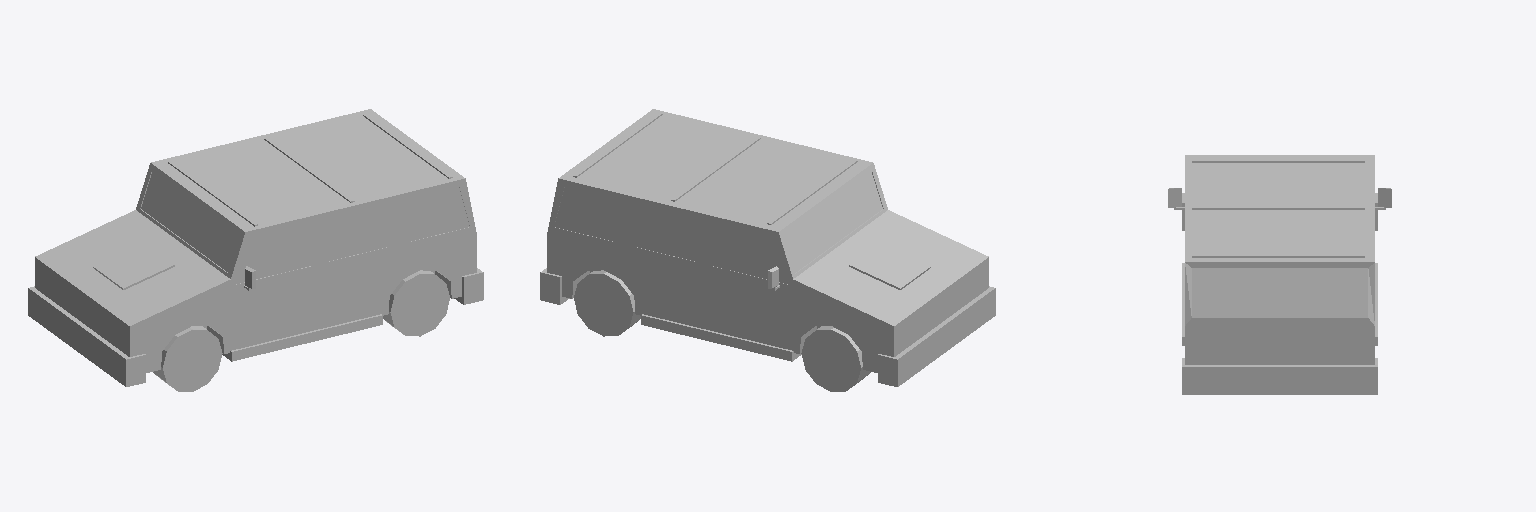
File: SUV.obj
3 views of the same model, side by side, from view 1: azimuth 30°, elevation 25°; view 2: azimuth 150°, elevation 25°; view 3: azimuth 270°, elevation 25° (orthographic).
Parts seen in each view (by area): view 1: Car_Body, Wheel_FL, Wheel_RL; view 2: Car_Body, Wheel_FR, Wheel_RR; view 3: Car_Body.
Boxes of the visible parts, box(x1,y1,x2,y2) form: Car_Body: box(28, 109, 483, 386); Wheel_FL: box(153, 326, 222, 391); Wheel_RL: box(383, 270, 449, 336); Car_Body: box(540, 109, 995, 386); Wheel_FR: box(801, 326, 870, 391); Wheel_RR: box(574, 270, 640, 336); Car_Body: box(1168, 155, 1391, 394).
Size of the model in its own units: 226 by 89.56 by 122.